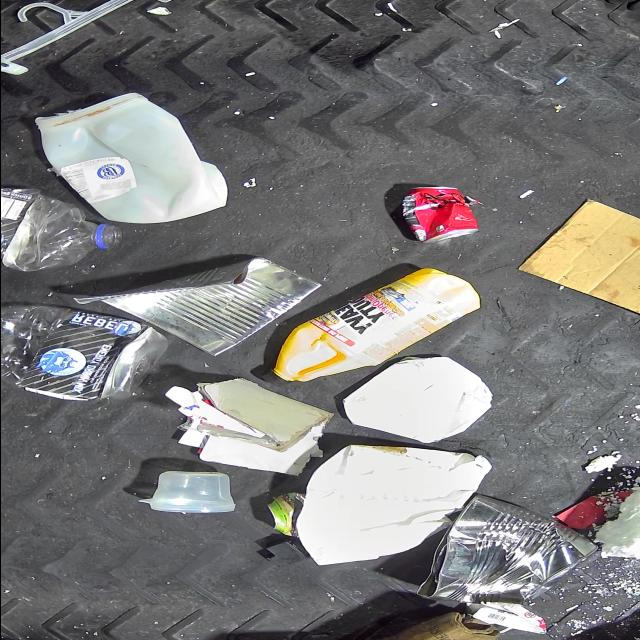can: (411, 498, 597, 614), (400, 186, 480, 244), (267, 493, 301, 533)
milk_jug: (32, 92, 226, 224)
non_white_jug: (262, 272, 484, 388)
plastic_bottle: (0, 304, 170, 400), (0, 186, 121, 272)
